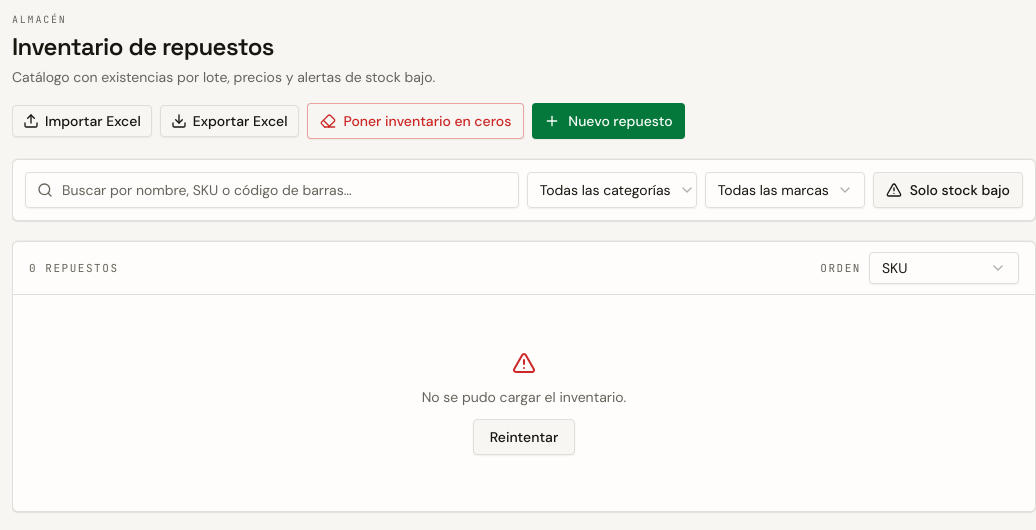
Test: Listings loading, retry and no-polling (characterization) › re-reads the inventory page when the error retry is used
The image size is (1036, 530).
Expected: the element with test id "inventory.error_state" is shown, left=422, top=351, right=626, bottom=455
Click the button with test id "inventory.retry_button": (524, 437) left=473, top=419, right=575, bottom=455
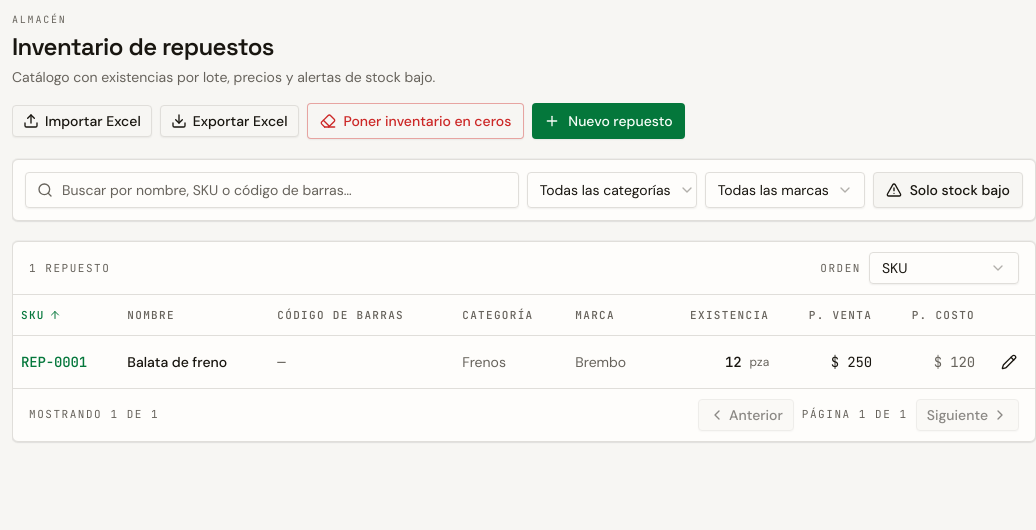
Now the link "REP-0001" is shown, box left=21, top=352, right=87, bottom=370
